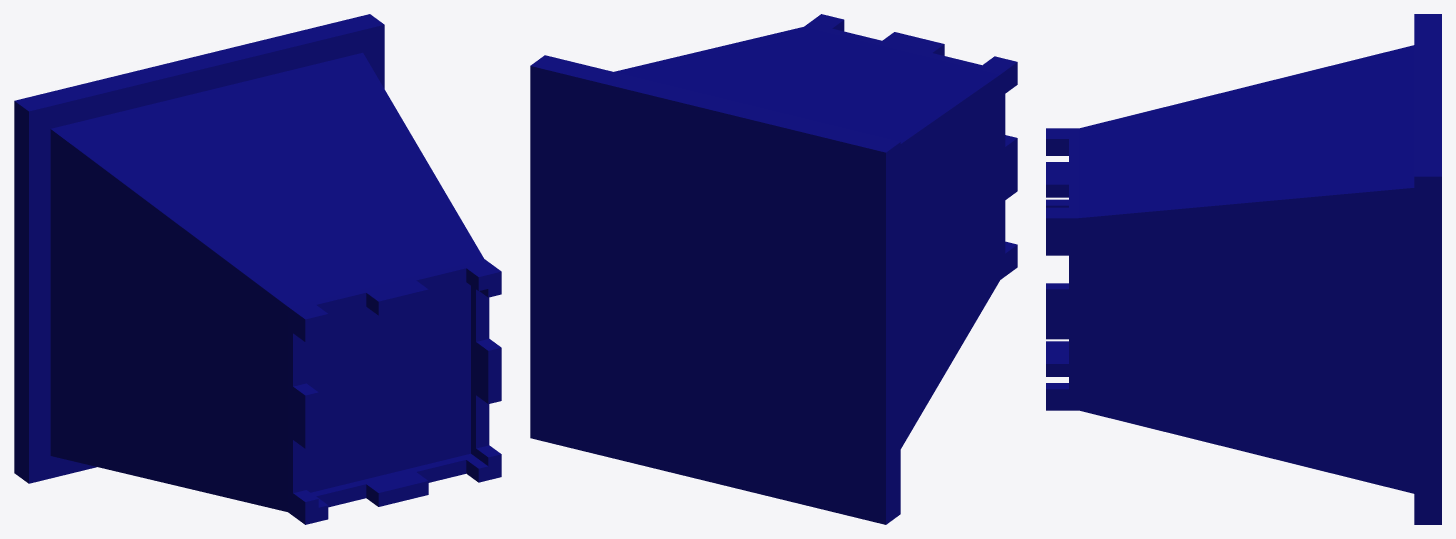
File: tower.obj
3 views of the same model, side by side, from view 1: azimuth 30°, elevation 25°; view 2: azimuth 150°, elevation 25°; view 3: azimuth 270°, elevation 25° (orthographic). The views are drawn at different scales.
Visible parts, largest first — view 1: Box001; view 2: Box001; view 3: Box001.
Part boxes in pixels (x1,y1,x2,y2): Box001: [14, 14, 501, 524]; Box001: [530, 14, 1017, 524]; Box001: [1046, 14, 1441, 524].
Size of the model in its own units: 40 by 40 by 41.17.
